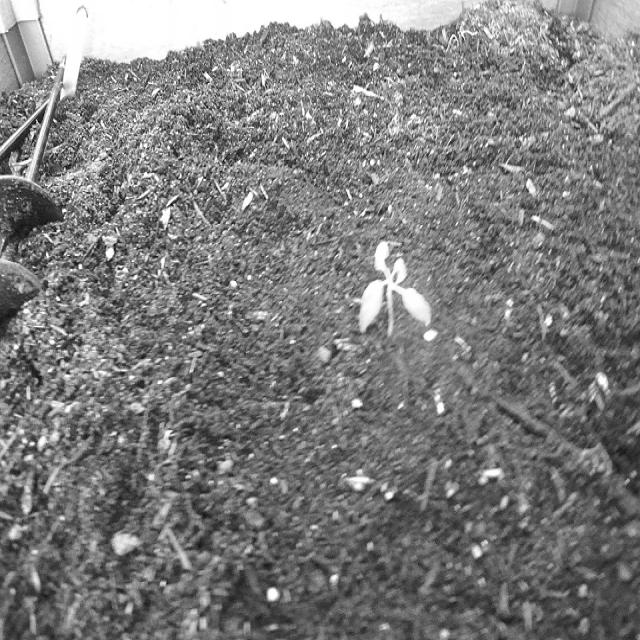Healthy: (352, 224, 437, 358)
